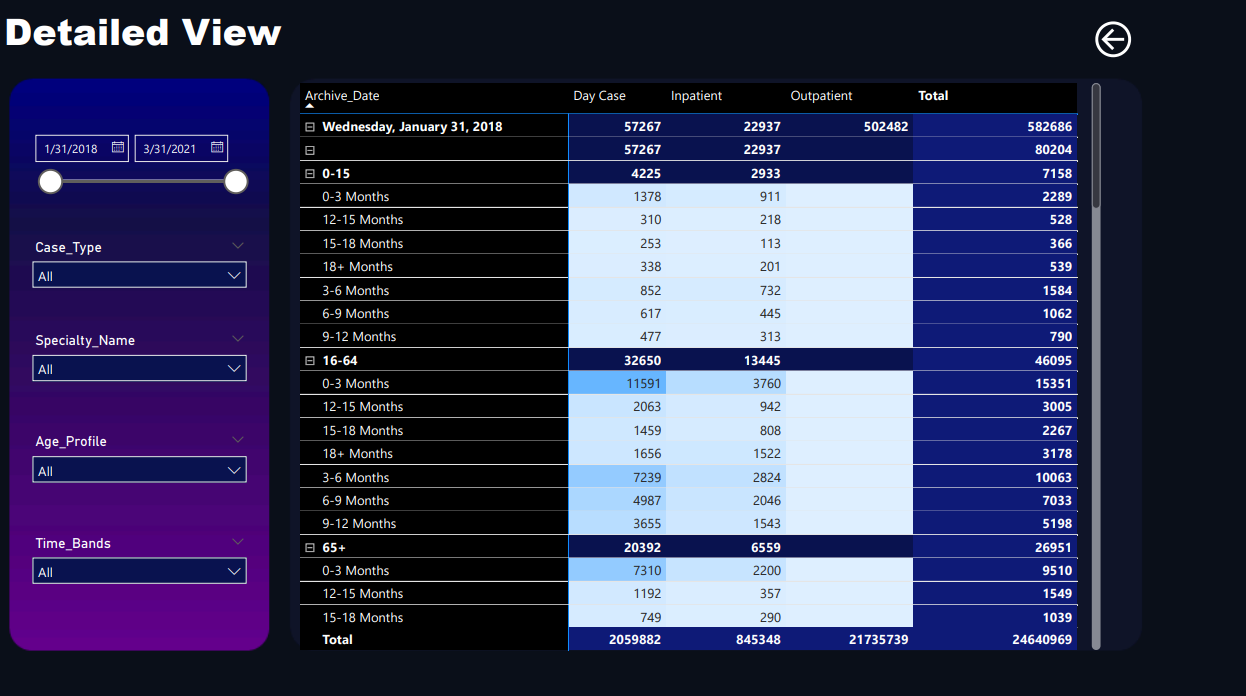

What the dashboard file says about the page in this screenshot:
{"tool":"powerbi","page":{"name":"Detail","canvas":[1280,720],"ordinal":1},"visuals":[{"type":"textbox","box":[0,0,304,80],"z":0},{"type":"slicer","fields":{"Values":["All_Data.Archive_Date"]},"box":[24,128,240,96],"z":1000},{"type":"slicer","fields":{"Values":["All_Data.Case_Type"]},"box":[24,240,240,80],"z":2000},{"type":"slicer","fields":{"Values":["All_Data.Specialty_Name"]},"box":[24,336,240,88],"z":3000},{"type":"slicer","fields":{"Values":["All_Data.Age_Profile"]},"box":[24,440,240,80],"z":5000},{"type":"slicer","fields":{"Values":["All_Data.Time_Bands"]},"box":[24,544,240,80],"z":6000},{"type":"pivotTable","fields":{"Rows":["All_Data.Archive_Date","All_Data.Speciality_Name","All_Data.Age_Profile","All_Data.Time_Bands"],"Columns":["All_Data.Case_Type"],"Values":["Sum(All_Data.Total)"]},"box":[304,80,832,592],"z":7000},{"type":"actionButton","box":[1120,16,96,48],"z":7001}]}

Visuals, with their boxes in screenshot pixels (x1, y1, x2, y2), scaled from the page's 1280x720 canvas onto the 1246x696 screenshot:
textbox: (0, 0, 296, 77)
slicer - All_Data.Archive_Date: (23, 124, 257, 217)
slicer - All_Data.Case_Type: (23, 232, 257, 309)
slicer - All_Data.Specialty_Name: (23, 325, 257, 410)
slicer - All_Data.Age_Profile: (23, 425, 257, 503)
slicer - All_Data.Time_Bands: (23, 526, 257, 603)
pivotTable - All_Data.Archive_Date x All_Data.Speciality_Name: (296, 77, 1106, 650)
actionButton: (1090, 15, 1184, 62)
